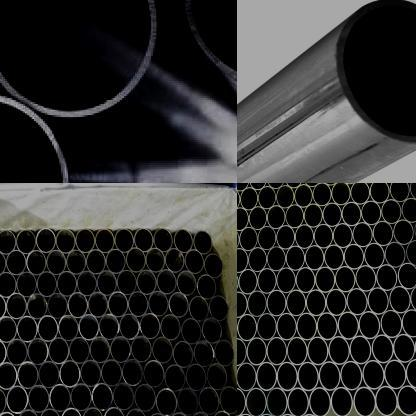pipe: (0, 0, 163, 119), (332, 0, 416, 147), (0, 90, 72, 183), (340, 360, 362, 392), (6, 386, 29, 416), (151, 336, 174, 366), (374, 386, 397, 416), (362, 360, 385, 390), (297, 361, 319, 392), (353, 387, 376, 416), (330, 387, 353, 416), (28, 384, 50, 414), (134, 384, 156, 414), (112, 382, 134, 412), (121, 358, 143, 388), (38, 360, 60, 390), (164, 362, 186, 392), (197, 386, 219, 416), (384, 360, 406, 390), (393, 334, 415, 364), (276, 362, 298, 392), (318, 362, 340, 392), (286, 336, 308, 366), (328, 336, 350, 366), (306, 336, 328, 366), (372, 334, 394, 364), (143, 360, 165, 389), (70, 384, 92, 413), (80, 359, 102, 388), (100, 359, 122, 388), (6, 338, 28, 367), (172, 340, 194, 369), (350, 336, 372, 365), (266, 337, 288, 366), (308, 387, 330, 416), (380, 310, 402, 339), (316, 312, 338, 341), (358, 311, 380, 340), (206, 362, 227, 392), (256, 362, 277, 392), (296, 312, 317, 342), (17, 362, 39, 390), (27, 338, 49, 366), (155, 388, 177, 416), (130, 336, 152, 364), (68, 337, 90, 365), (180, 318, 202, 346), (184, 364, 206, 392), (188, 295, 210, 323), (118, 313, 140, 341), (76, 270, 98, 298), (176, 388, 198, 416), (337, 312, 359, 340), (376, 264, 398, 292), (367, 288, 389, 316), (346, 288, 368, 316), (314, 266, 336, 294), (92, 383, 113, 412), (266, 387, 287, 416), (245, 387, 266, 416), (287, 387, 308, 416), (36, 271, 58, 298), (388, 287, 410, 314), (384, 242, 406, 269), (354, 265, 376, 292), (17, 316, 38, 344), (89, 336, 110, 364), (160, 314, 181, 342), (109, 336, 130, 364), (99, 314, 120, 342), (147, 290, 168, 318), (78, 314, 99, 342), (176, 270, 197, 298), (193, 340, 214, 368), (246, 338, 267, 366), (276, 313, 297, 341), (50, 384, 70, 413), (397, 386, 416, 416), (237, 362, 256, 392), (48, 338, 69, 365), (6, 294, 27, 321), (201, 317, 222, 344), (168, 292, 189, 319), (127, 291, 148, 318), (87, 292, 108, 319), (47, 293, 68, 320), (107, 291, 128, 318), (116, 270, 137, 297), (67, 292, 88, 319), (136, 269, 157, 296), (156, 269, 177, 296), (335, 266, 356, 293), (60, 360, 80, 388), (38, 315, 58, 343), (58, 314, 78, 342), (214, 340, 234, 368), (237, 314, 257, 342), (256, 313, 276, 341), (247, 290, 267, 318), (286, 290, 306, 318), (306, 289, 326, 317), (326, 289, 346, 317), (392, 220, 414, 245), (380, 199, 402, 224), (16, 272, 37, 298), (94, 228, 115, 254), (352, 222, 373, 248), (364, 243, 385, 269), (140, 313, 160, 340), (219, 385, 237, 415), (27, 294, 47, 321), (57, 271, 77, 298), (208, 295, 228, 322), (46, 249, 66, 276), (26, 250, 46, 277), (97, 270, 117, 297), (86, 249, 106, 276), (56, 228, 76, 255), (257, 268, 277, 295), (285, 245, 305, 272), (266, 290, 286, 317), (296, 267, 316, 294), (276, 267, 296, 294), (173, 229, 194, 254), (372, 221, 393, 246), (361, 200, 382, 225), (275, 225, 296, 250), (196, 274, 216, 300), (66, 250, 86, 276), (126, 248, 146, 274), (164, 248, 184, 274), (145, 248, 165, 274), (75, 228, 95, 254), (36, 228, 56, 254), (16, 230, 36, 256), (344, 244, 364, 270), (324, 244, 344, 270), (204, 252, 223, 279), (397, 263, 416, 290), (6, 251, 26, 276), (184, 250, 204, 275), (106, 249, 126, 274), (114, 229, 134, 254), (153, 228, 173, 253), (284, 204, 304, 229), (266, 205, 286, 230), (266, 247, 286, 272), (322, 203, 342, 228), (294, 224, 314, 249), (341, 201, 361, 226), (314, 224, 334, 249), (134, 228, 153, 254), (238, 269, 257, 295), (0, 362, 17, 391), (275, 185, 295, 209), (304, 246, 324, 270), (332, 224, 352, 248), (0, 316, 17, 344), (257, 226, 276, 251), (248, 247, 266, 273), (330, 183, 350, 206), (294, 184, 313, 208), (194, 230, 212, 255), (304, 203, 322, 228), (240, 227, 258, 252), (312, 183, 331, 206), (401, 309, 416, 338), (240, 187, 258, 211), (258, 186, 276, 210), (248, 206, 266, 230), (369, 183, 389, 204), (350, 183, 369, 205), (0, 272, 16, 298), (0, 230, 16, 256), (400, 198, 416, 223), (389, 183, 409, 202), (405, 359, 416, 390), (405, 239, 416, 266), (237, 248, 248, 273), (237, 291, 247, 318), (237, 207, 248, 231), (237, 387, 246, 416), (237, 338, 246, 366), (103, 407, 125, 416), (60, 407, 82, 416), (82, 407, 104, 416), (38, 408, 60, 416), (0, 387, 6, 416), (0, 339, 6, 367), (125, 408, 146, 416), (410, 285, 416, 313), (0, 294, 6, 321), (16, 409, 39, 416), (0, 251, 6, 277), (249, 183, 267, 190), (409, 183, 416, 201), (237, 183, 249, 192), (266, 183, 284, 189), (284, 183, 302, 188)
